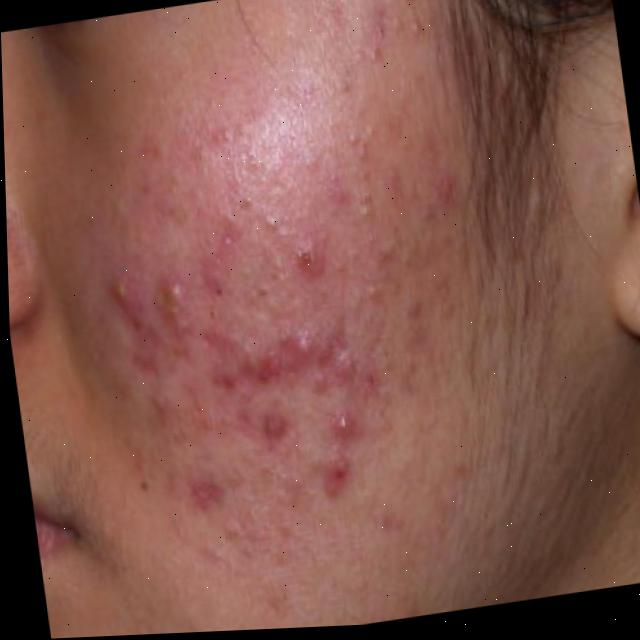Acne: (58, 0, 513, 563)
